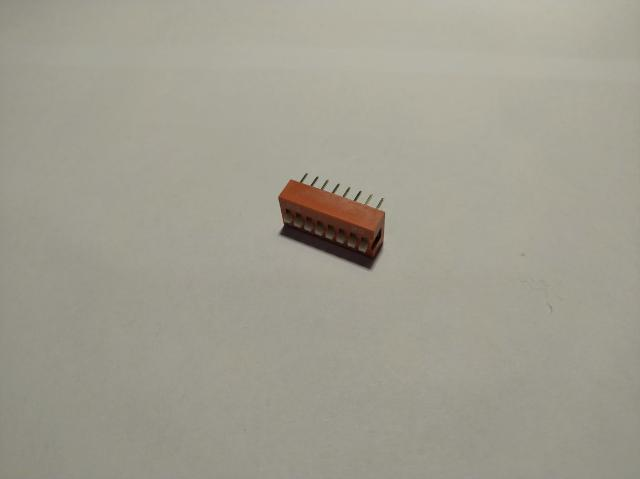dip_switch: (278, 171, 386, 259)
